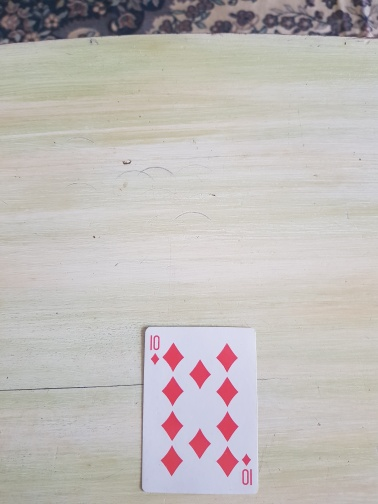ten: (138, 326, 260, 496)
